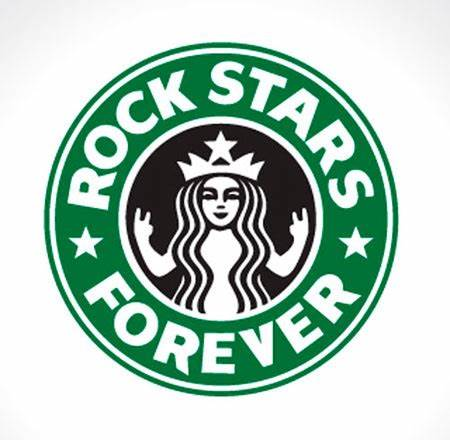starbucks Fake: (37, 36, 404, 403)
